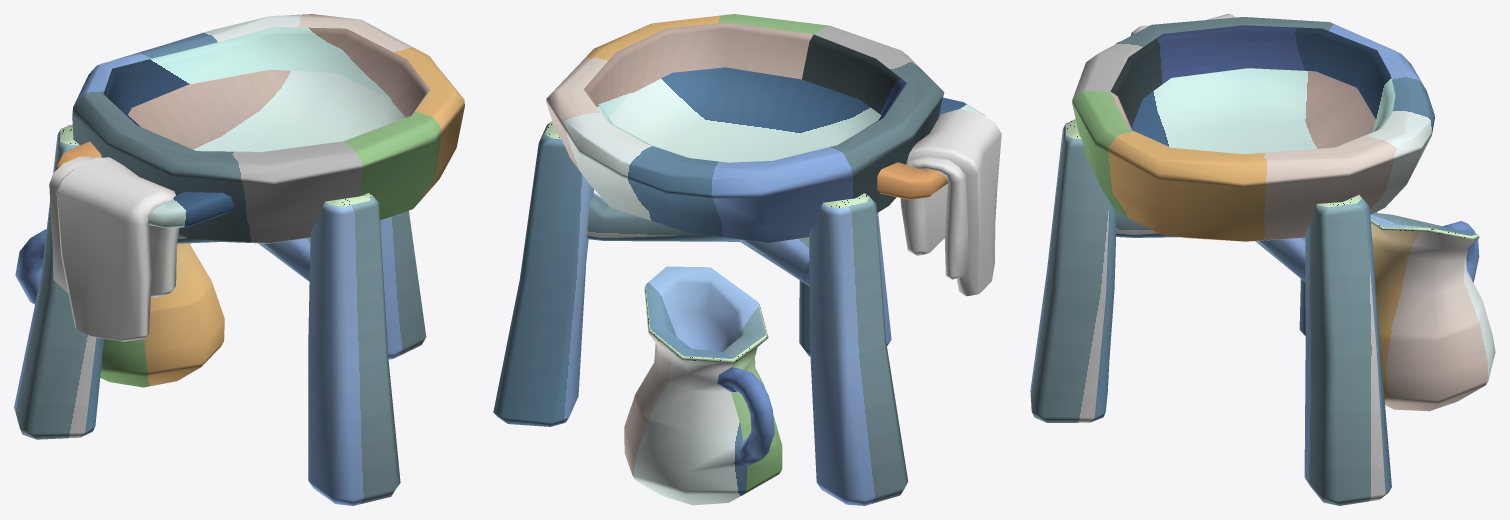
Rendered from P_StoneSink.glb.
The picture shows the model from 3 angles, left to right: view 1: azimuth 30°, elevation 25°; view 2: azimuth 150°, elevation 25°; view 3: azimuth 270°, elevation 25°; orthographic projection. The views are drawn at different scales.
Parts seen in each view (by area): view 1: P_StoneSink; view 2: P_StoneSink; view 3: P_StoneSink.
Part boxes in pixels (bbox=[...]): P_StoneSink: bbox=[14, 14, 464, 505]; P_StoneSink: bbox=[493, 14, 1001, 505]; P_StoneSink: bbox=[1030, 14, 1495, 505].
Size of the model in its own units: 0.865 by 0.6447 by 0.8391.
1 material, 1 textured.
